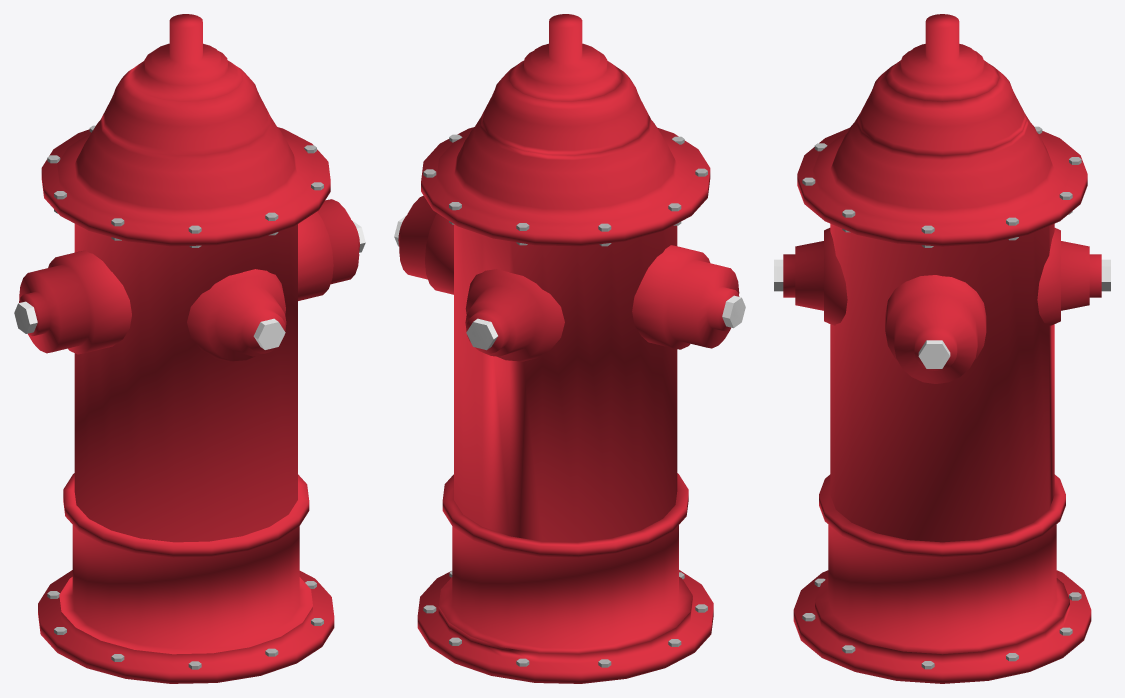
File: hidrant_1.obj
3 renders of one model, left to right at view 1: azimuth 30°, elevation 25°; view 2: azimuth 150°, elevation 25°; view 3: azimuth 270°, elevation 25°, orthographic.
Visible parts, largest first — view 1: Circle.001, Circle.033_Circle.024, Circle.038_Circle.039, Circle.003, Circle.040_Circle.041; view 2: Circle.001, Circle.033_Circle.024, Circle.038_Circle.039, Circle.003, Circle.040_Circle.041; view 3: Circle.001, Circle.033_Circle.024, Circle.038_Circle.039, Circle.003, Circle.040_Circle.041.
Part boxes in pixels (left/top/right/bottom): Circle.001: left=38, top=14, right=334, bottom=683; Circle.033_Circle.024: left=19, top=199, right=359, bottom=354; Circle.038_Circle.039: left=187, top=269, right=286, bottom=361; Circle.003: left=47, top=125, right=323, bottom=669; Circle.040_Circle.041: left=14, top=221, right=365, bottom=349; Circle.001: left=417, top=14, right=713, bottom=683; Circle.033_Circle.024: left=398, top=195, right=739, bottom=349; Circle.038_Circle.039: left=465, top=269, right=564, bottom=361; Circle.003: left=423, top=134, right=707, bottom=667; Circle.040_Circle.041: left=394, top=216, right=745, bottom=350; Circle.001: left=793, top=14, right=1091, bottom=683; Circle.033_Circle.024: left=885, top=275, right=986, bottom=383; Circle.038_Circle.039: left=783, top=228, right=1101, bottom=325; Circle.003: left=802, top=126, right=1081, bottom=669; Circle.040_Circle.041: left=774, top=259, right=1110, bottom=368.
Bounding box in the file's own units: 2.04 × 3.49 × 1.77.
2 materials, 2 textured.
